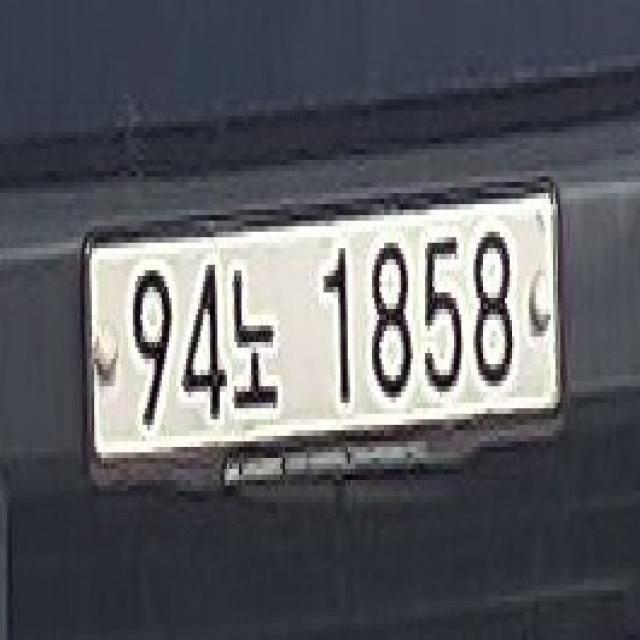plat: (80, 174, 567, 490)
